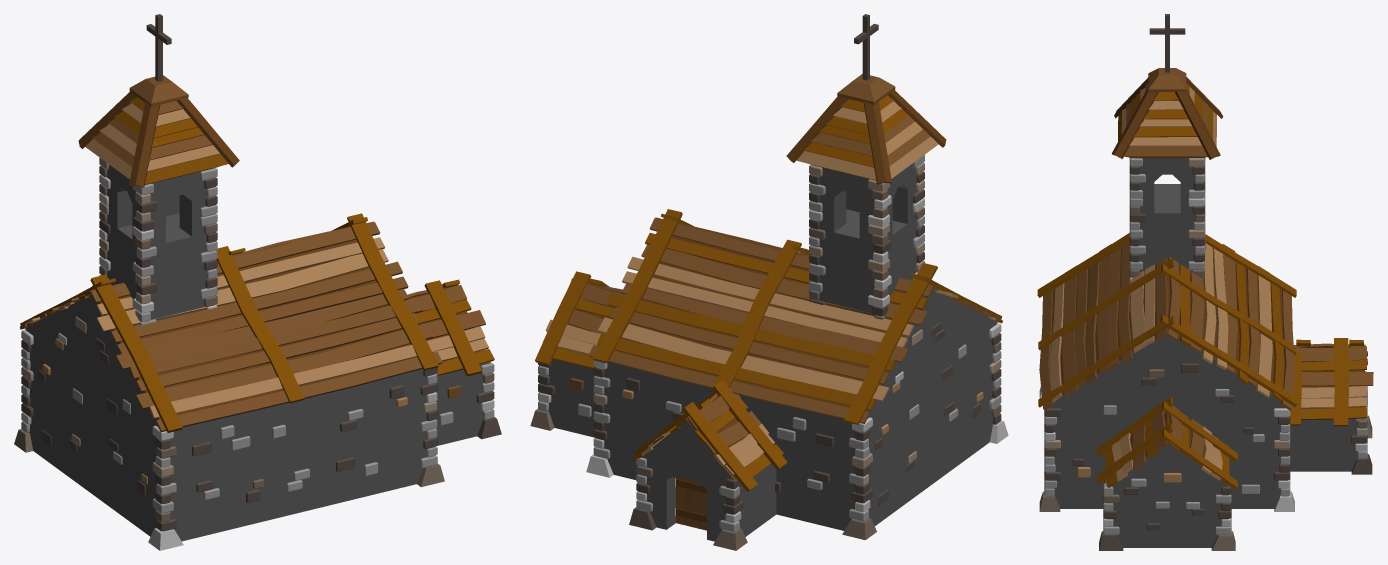
The model's file is Church.fbx.
3 renders of one model, left to right at view 1: azimuth 30°, elevation 25°; view 2: azimuth 150°, elevation 25°; view 3: azimuth 270°, elevation 25°, orthographic. The views are drawn at different scales.
Visible parts, largest first — view 1: Church; view 2: Church; view 3: Church.
Part boxes in pixels (left/top/right/bottom): Church: left=14, top=14, right=501, bottom=550; Church: left=530, top=14, right=1008, bottom=550; Church: left=1037, top=14, right=1373, bottom=550.
Bounding box in the file's own units: 5384 × 6245 × 4681.
